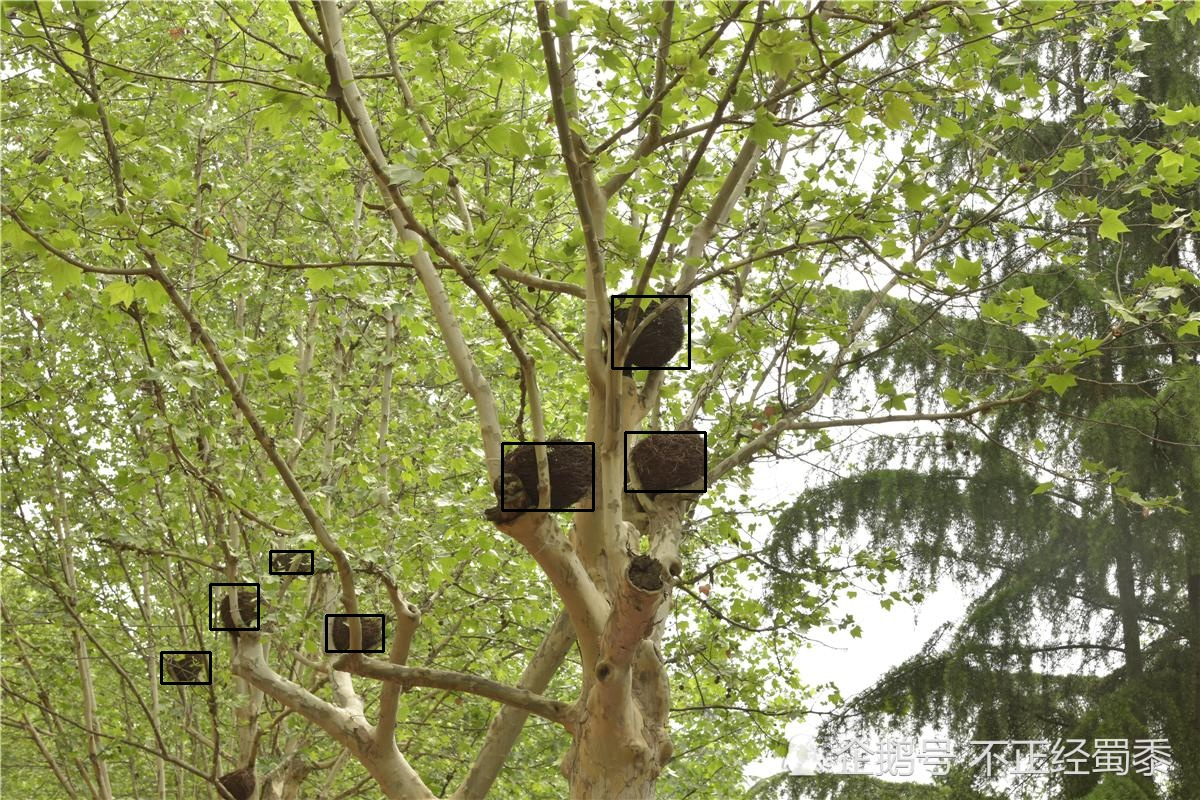bird-nest: (601, 285, 688, 373), (505, 435, 599, 516), (630, 424, 716, 499), (325, 610, 387, 656), (216, 590, 267, 637), (162, 650, 206, 686), (268, 549, 314, 582), (213, 769, 257, 800)
